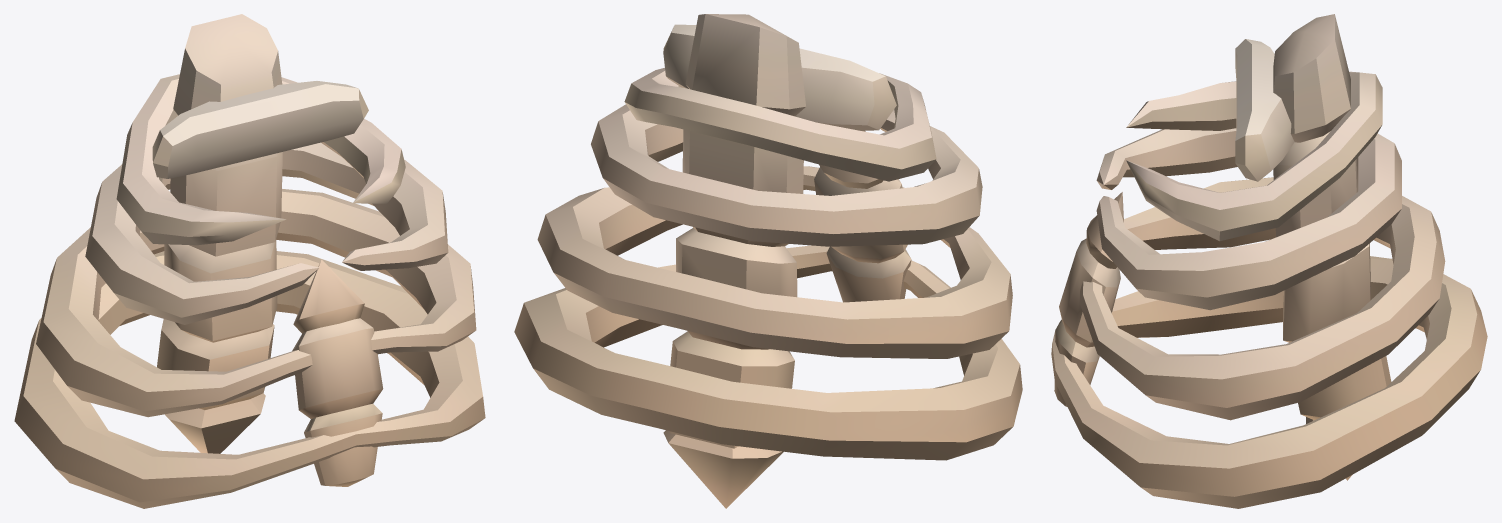
The model's file is ribcage.glb.
The picture shows the model from 3 angles, left to right: view 1: azimuth 30°, elevation 25°; view 2: azimuth 150°, elevation 25°; view 3: azimuth 270°, elevation 25°; orthographic projection. The views are drawn at different scales.
Visible parts, largest first — view 1: ribcage; view 2: ribcage; view 3: ribcage.
Boxes of the visible parts, x1,y1,x2,y2 form: ribcage: (14, 14, 485, 508); ribcage: (514, 14, 1022, 508); ribcage: (1051, 14, 1487, 508).
Size of the model in its own units: 0.8457 by 0.8582 by 0.7469.
Materials: 1 (1 with a texture image).
